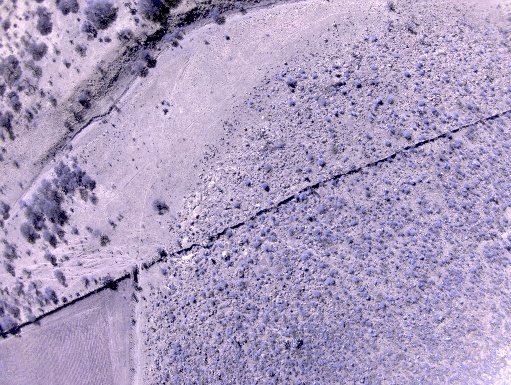agave: (310, 288, 322, 299), (461, 183, 471, 194), (286, 77, 296, 87), (373, 99, 382, 110), (296, 192, 307, 200), (444, 112, 453, 121), (362, 291, 370, 301), (169, 314, 177, 324), (369, 64, 379, 72), (403, 131, 411, 140), (317, 206, 325, 214), (381, 243, 389, 251), (325, 277, 334, 284), (242, 180, 251, 187), (353, 81, 362, 88), (406, 229, 415, 236), (276, 143, 285, 150), (306, 250, 314, 257), (402, 189, 410, 196), (350, 220, 358, 227), (415, 63, 422, 71), (262, 295, 270, 302), (369, 145, 377, 152), (343, 71, 351, 78), (408, 180, 416, 187), (325, 116, 332, 124), (265, 270, 273, 277), (174, 222, 182, 229), (263, 246, 272, 252), (346, 268, 355, 274), (253, 241, 260, 248), (233, 202, 240, 209), (387, 97, 394, 104), (419, 69, 426, 76), (225, 260, 232, 267), (351, 276, 359, 282), (432, 107, 438, 115), (319, 263, 327, 269), (384, 196, 392, 202), (311, 74, 319, 80), (268, 199, 274, 207), (259, 230, 266, 236), (262, 183, 269, 189), (404, 71, 411, 77), (385, 141, 391, 148), (305, 214, 311, 221), (380, 302, 387, 308), (371, 35, 377, 42), (307, 155, 314, 161), (174, 341, 180, 348), (223, 289, 230, 295), (395, 195, 401, 202), (302, 254, 308, 260), (190, 297, 196, 303), (441, 118, 447, 124), (355, 306, 361, 312), (388, 249, 394, 255), (231, 247, 238, 252), (216, 286, 223, 291), (324, 251, 331, 256), (288, 101, 295, 106), (319, 159, 324, 166), (215, 332, 222, 337), (289, 229, 294, 235), (247, 258, 253, 263), (333, 111, 338, 117), (424, 119, 429, 125), (419, 101, 425, 106), (431, 124, 436, 130), (199, 316, 205, 321), (211, 277, 216, 283), (350, 111, 356, 116), (243, 239, 249, 244), (258, 273, 264, 278), (294, 216, 299, 222), (291, 205, 295, 212), (306, 167, 311, 172), (194, 258, 199, 263), (270, 215, 275, 220), (361, 208, 365, 214), (165, 265, 170, 269)
